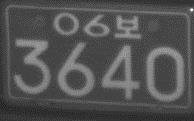0: (145, 45, 184, 103), (53, 11, 79, 36)
3: (13, 37, 51, 94)
4: (101, 43, 140, 100)
6: (56, 40, 95, 97), (83, 12, 109, 38)
보: (113, 14, 141, 40)
